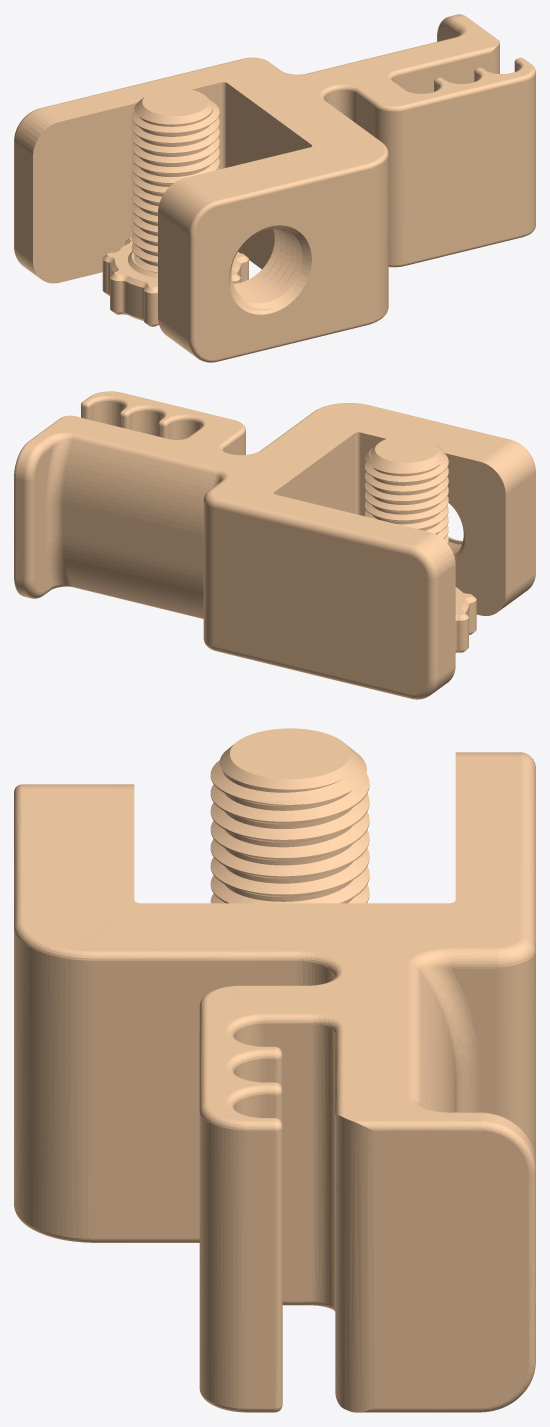
The model's file is headphone-clamp.glb.
3 renders of one model, top to bottom at view 1: azimuth 30°, elevation 25°; view 2: azimuth 150°, elevation 25°; view 3: azimuth 270°, elevation 25°, orthographic. The views are drawn at different scales.
Parts seen in each view (by area): view 1: desktop_headphone_holder_mod.STL_fil1, desk_headphone_holder_screw.stl_fil1; view 2: desktop_headphone_holder_mod.STL_fil1, desk_headphone_holder_screw.stl_fil1; view 3: desktop_headphone_holder_mod.STL_fil1, desk_headphone_holder_screw.stl_fil1.
Part boxes in pixels (x1,y1,x2,y2): desktop_headphone_holder_mod.STL_fil1: (14, 14, 535, 362); desk_headphone_holder_screw.stl_fil1: (102, 88, 248, 326); desktop_headphone_holder_mod.STL_fil1: (14, 391, 535, 699); desk_headphone_holder_screw.stl_fil1: (365, 436, 476, 652); desktop_headphone_holder_mod.STL_fil1: (14, 752, 535, 1412); desk_headphone_holder_screw.stl_fil1: (210, 728, 369, 903).
Bounding box in the file's own units: 0.115 × 0.049 × 0.065.
